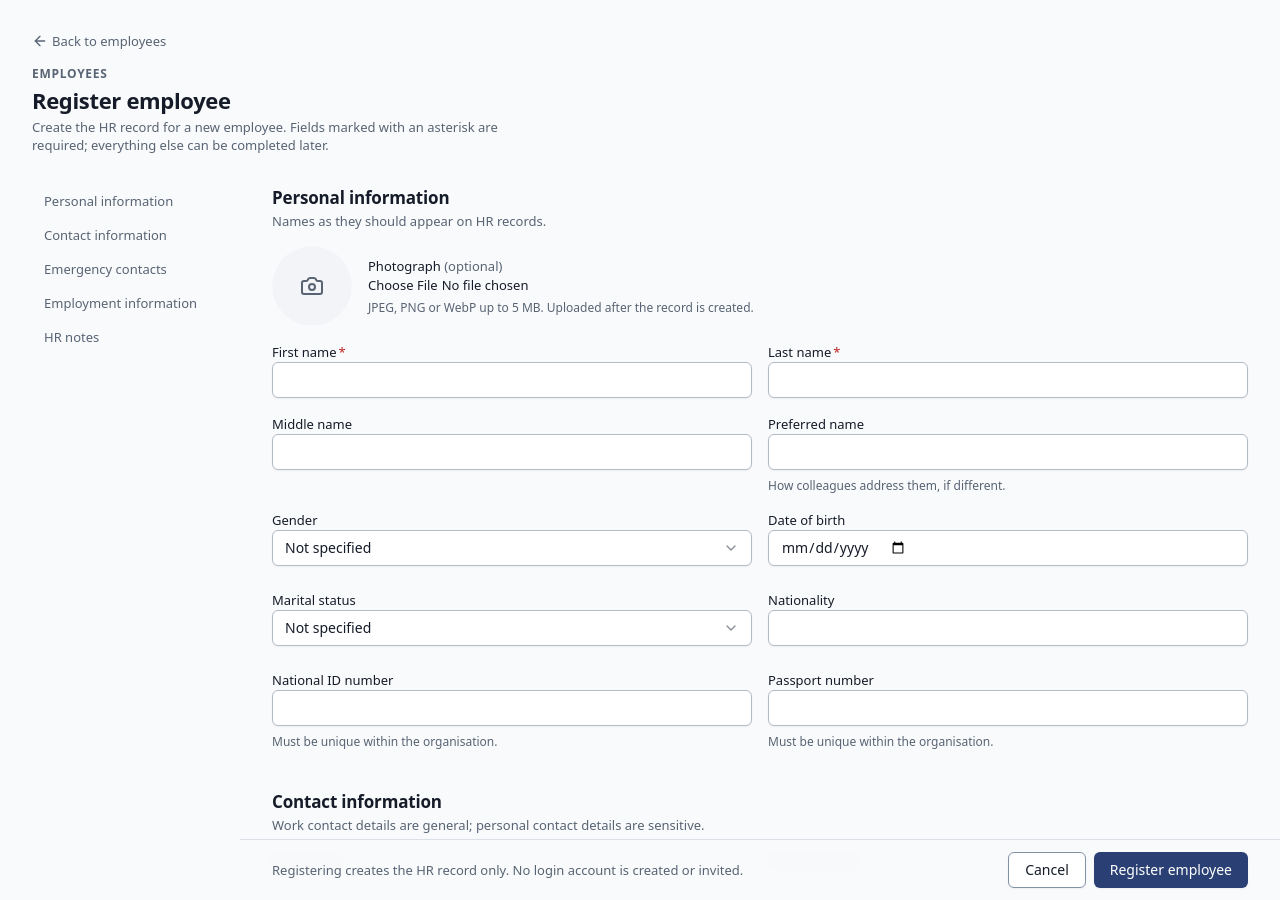
it: Register employee page › maps a duplicate-identifier 409 onto the field and shows the server sentence
Type "Ada" into the field with test id "input-employee-first-name" at point(512, 380), box 272,362 -> 752,398
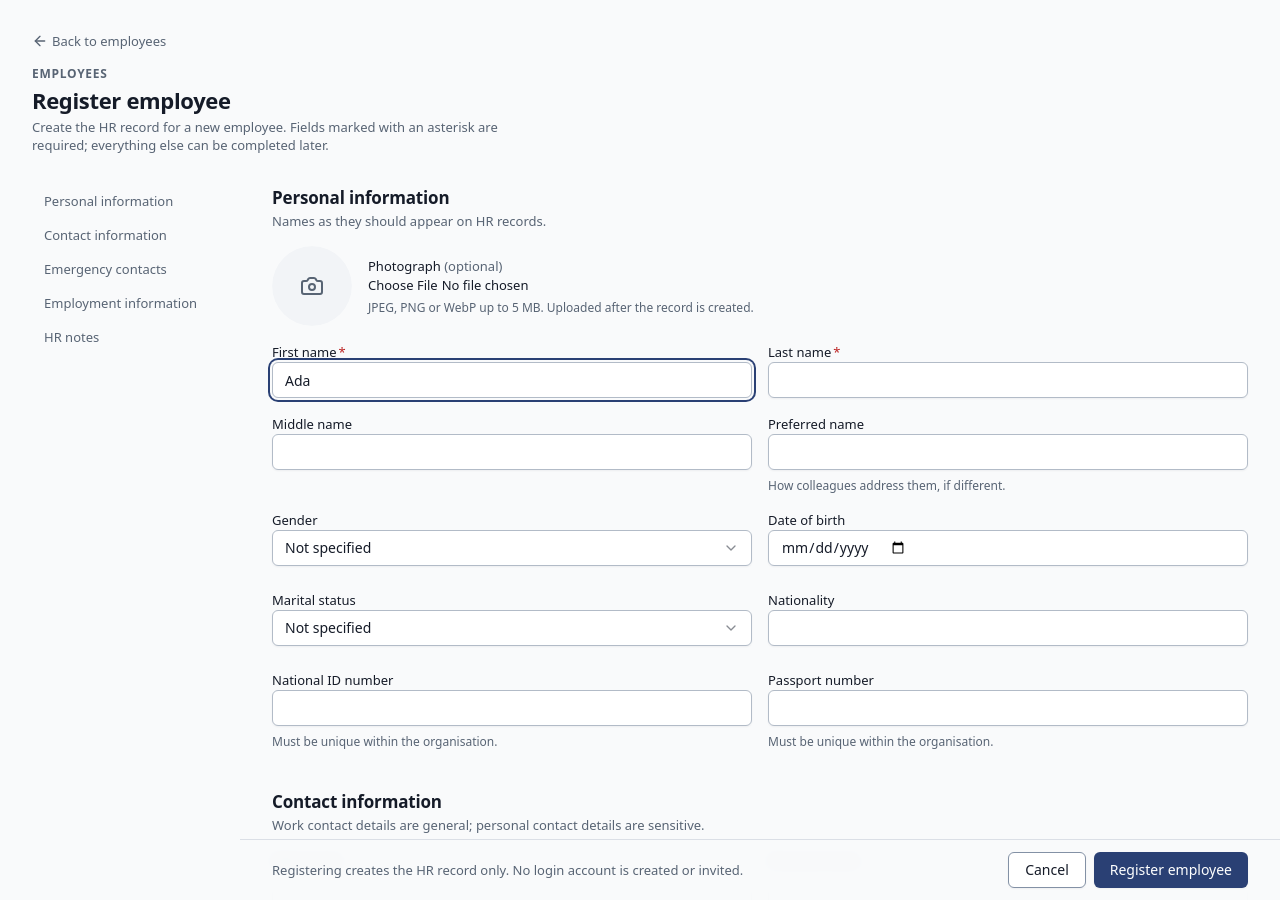
Type "Lovelace" into the field with test id "input-employee-last-name" at point(1008, 380), box 768,362 -> 1248,398
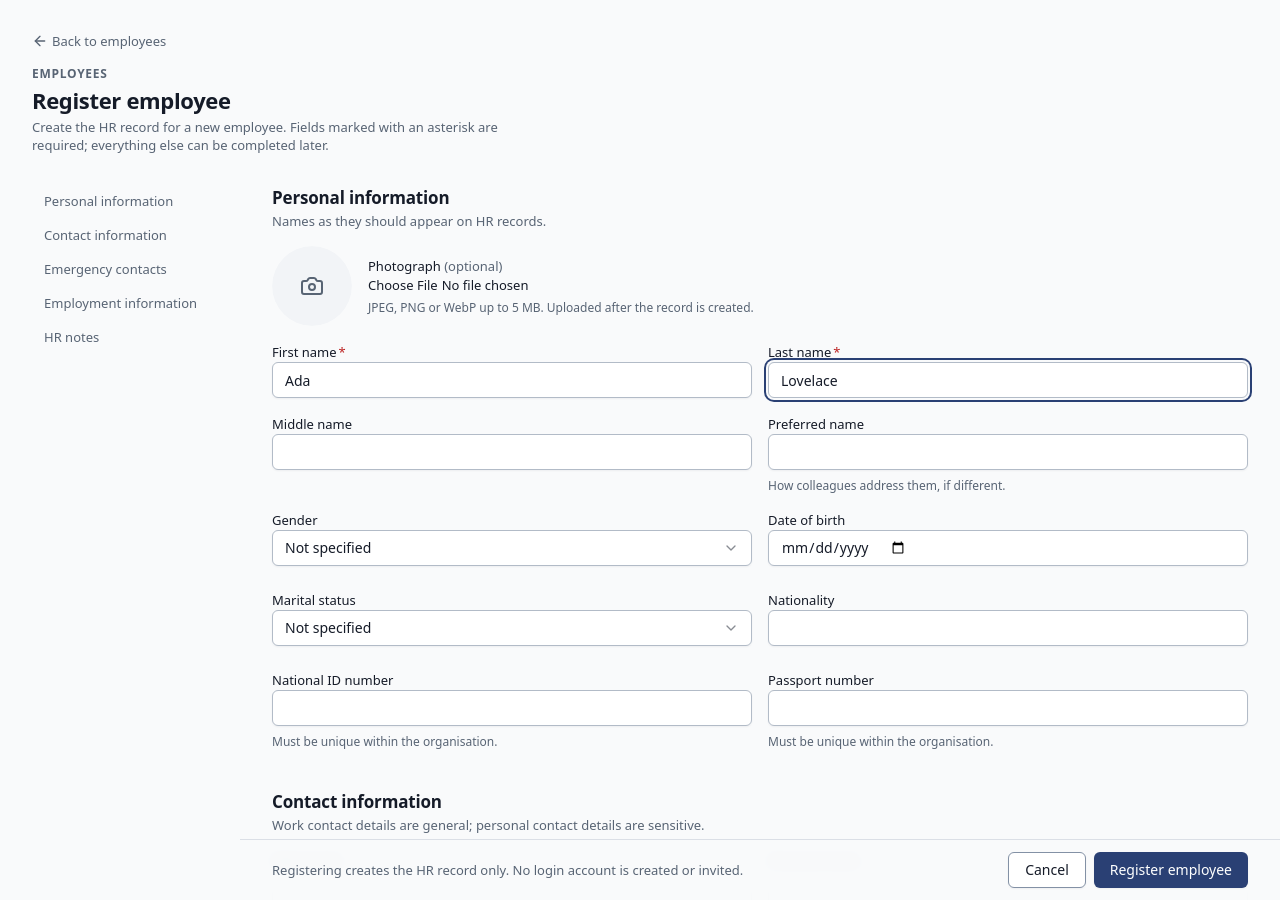
Type "GHA-123" into the field with test id "input-employee-national-id" at point(512, 708), box 272,690 -> 752,726
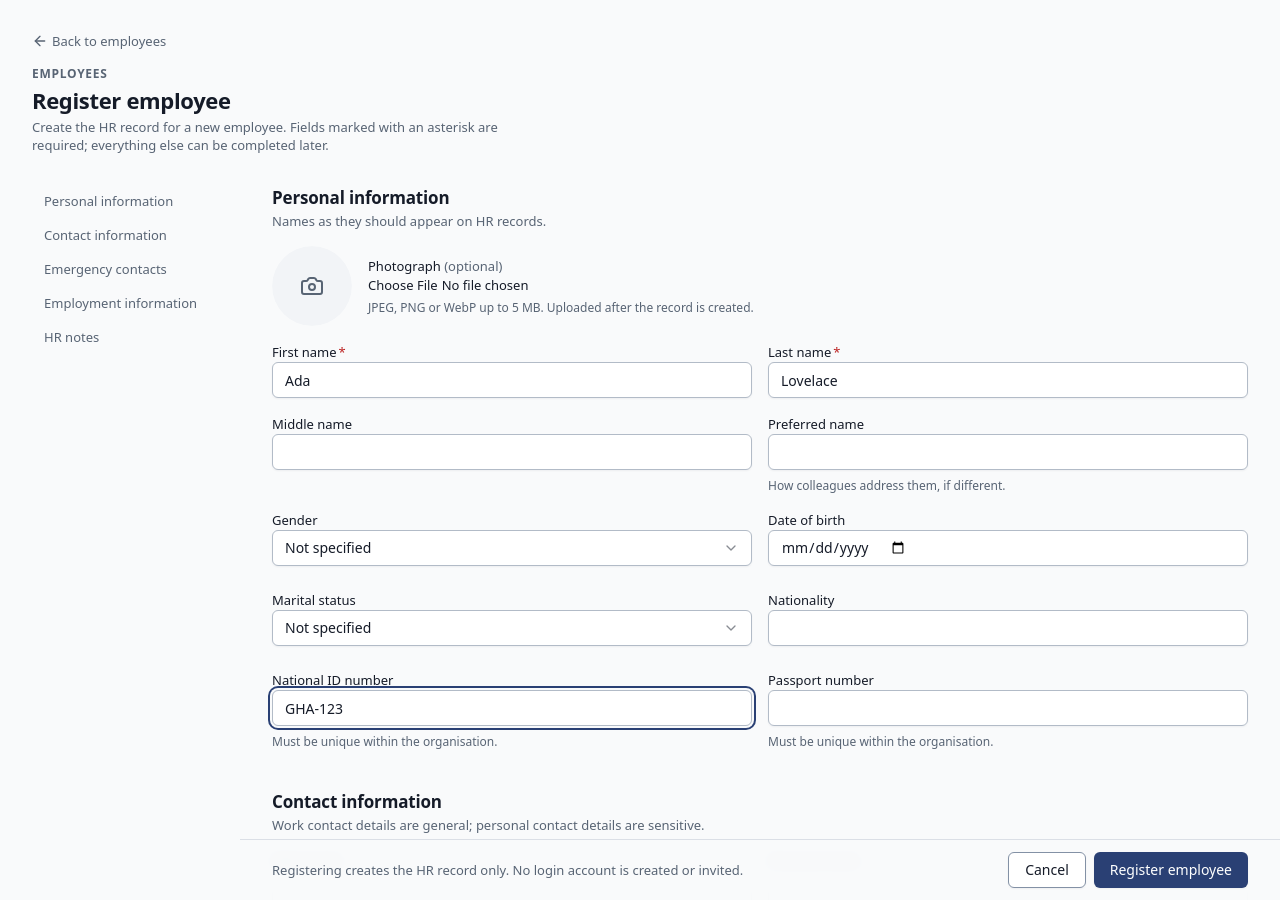
Click the button with test id "button-submit-employee" at point(1171, 870), box 1094,852 -> 1248,888
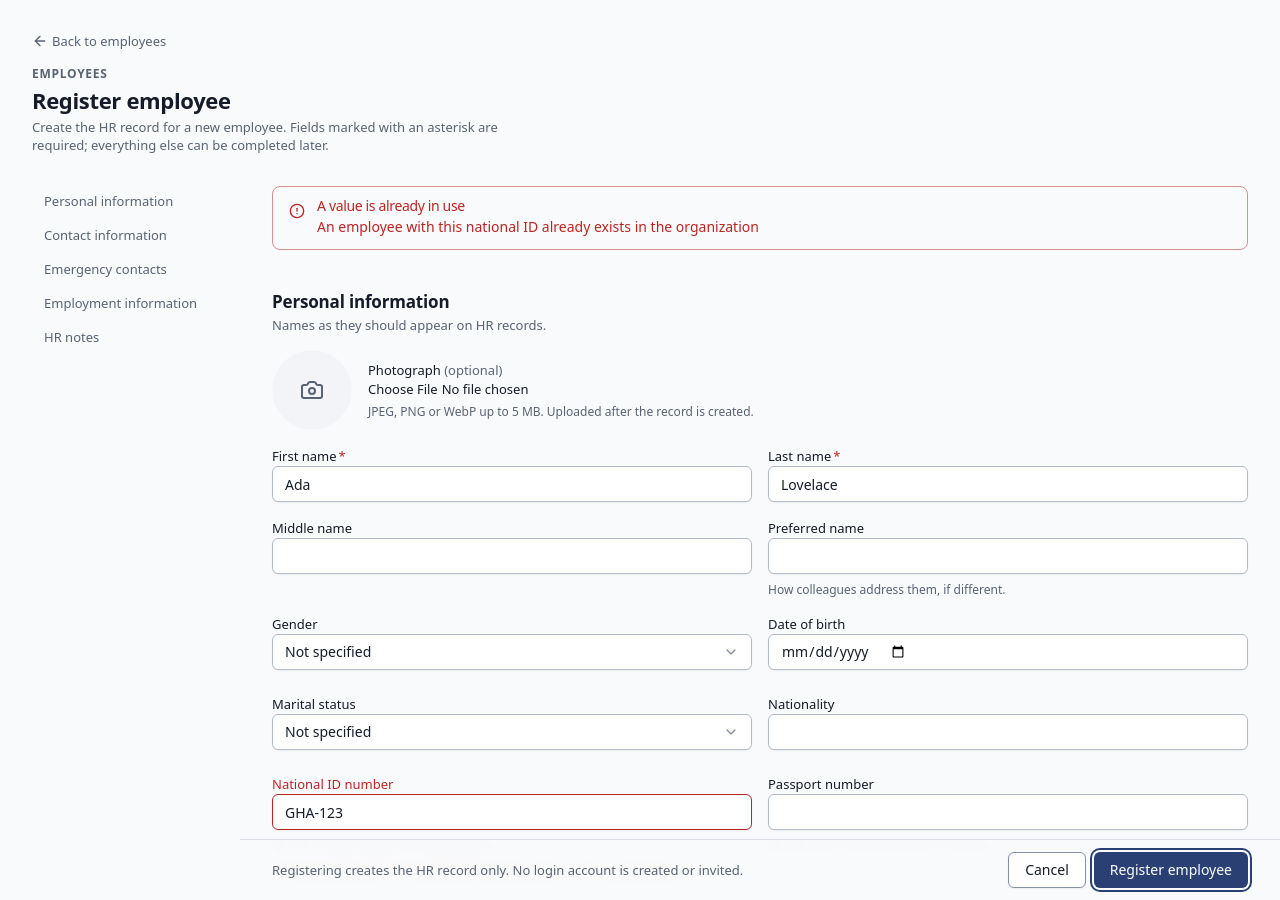
Check: the message with test id "alert-employee-form-error" shows "already in use", box 317,196 -> 465,215
Check: the text "An employee with this national ID already exists in the organization" is shown 2 times, box 317,217 -> 759,236; 272,862 -> 752,880
